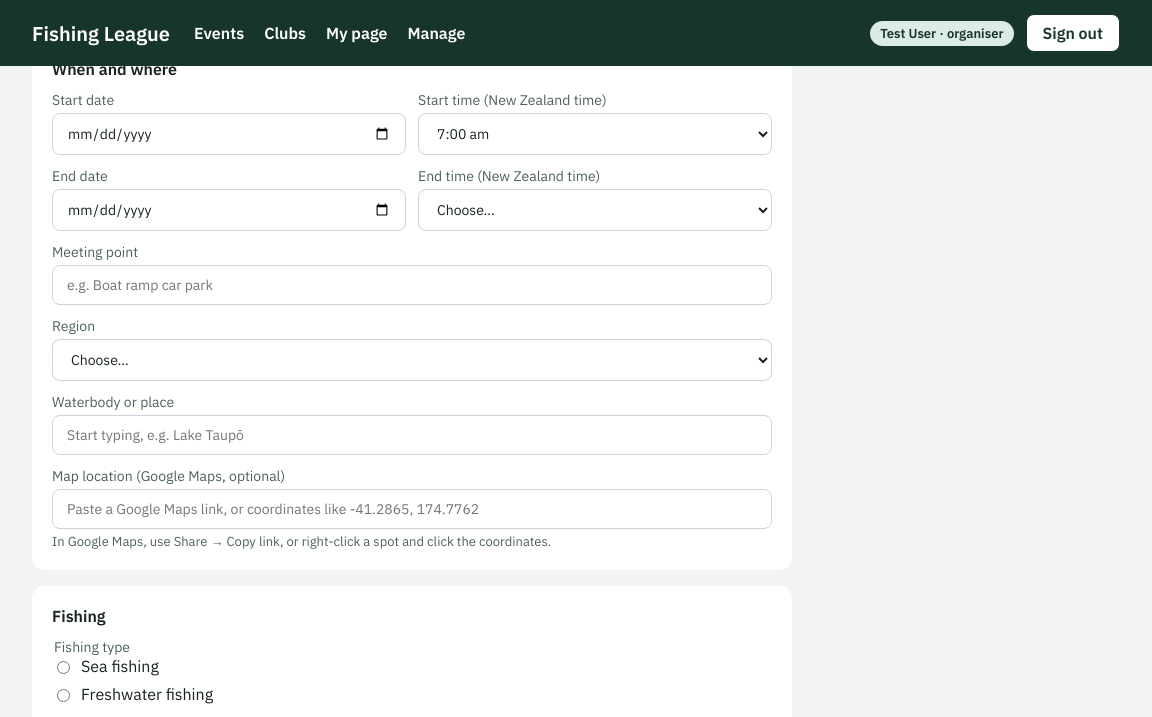
Test: event form › district list follows the region and resets when it changes
(page scrolled)
Expected: the field labelled "District or area" is not shown
Select "Manawatū-Whanganui" in the dropdown labelled "Region": {"x": 412, "y": 360} x1=52 y1=339 x2=772 y2=381
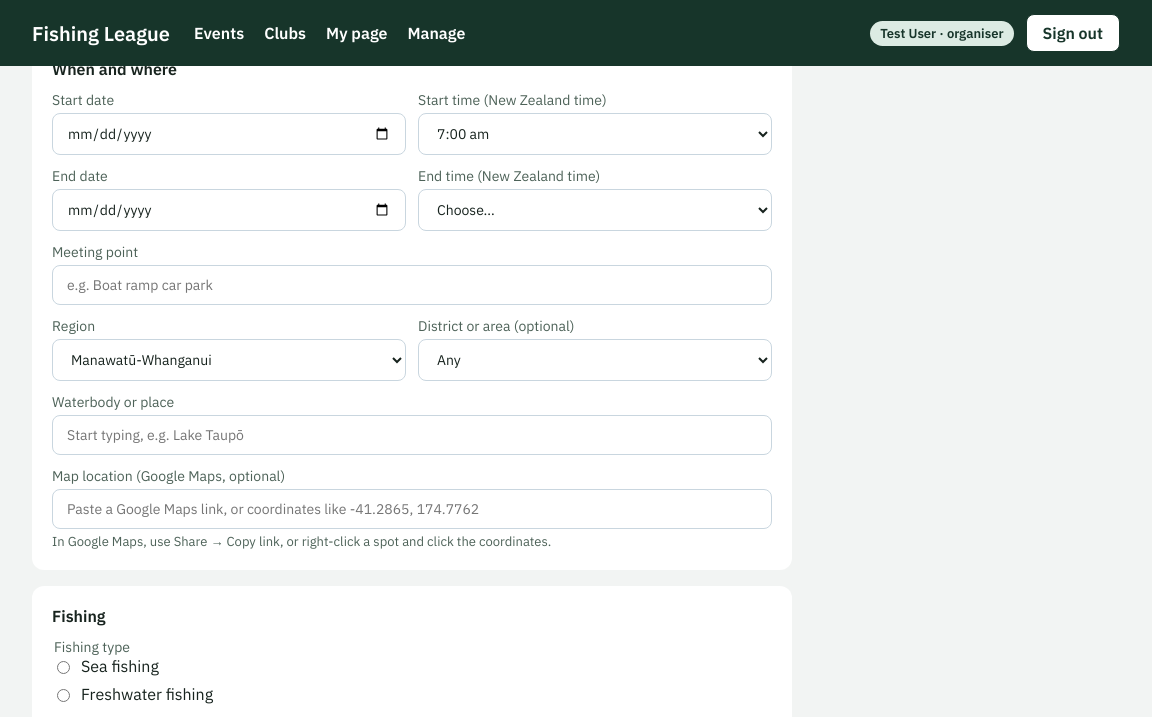
Select "Ruapehu" in the dropdown labelled "District or area (optional)": {"x": 595, "y": 360} x1=418 y1=339 x2=772 y2=381
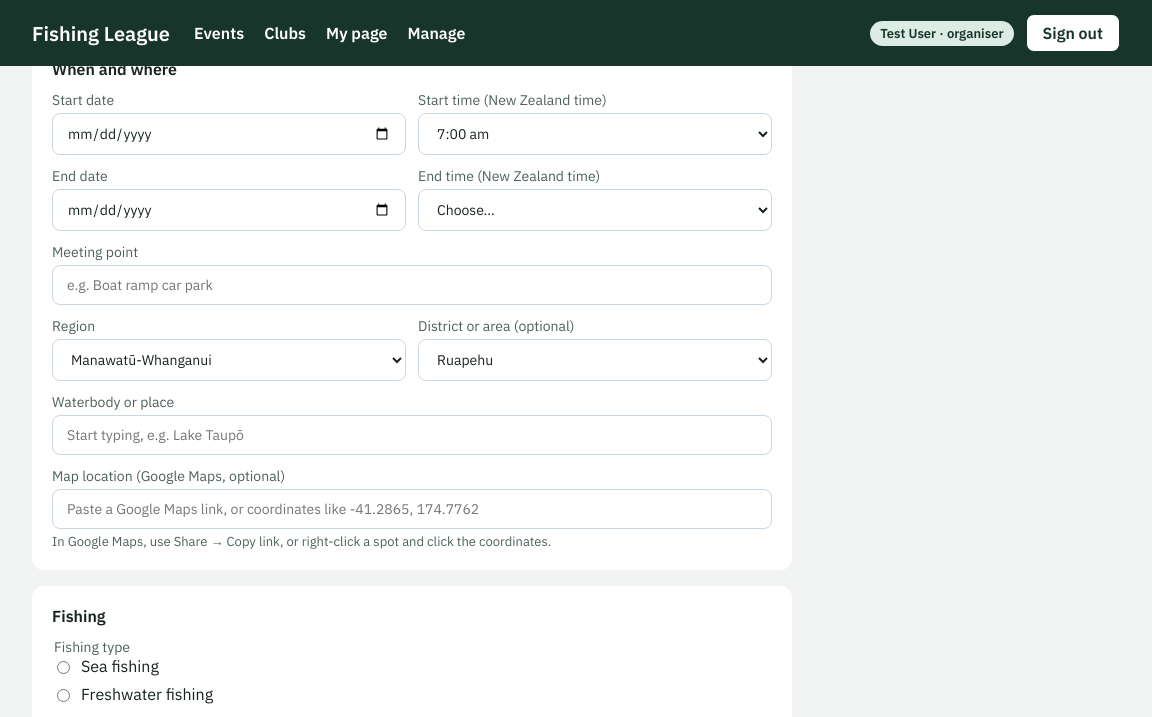
Select "Southland" in the dropdown labelled "Region": {"x": 229, "y": 360} x1=52 y1=339 x2=406 y2=381
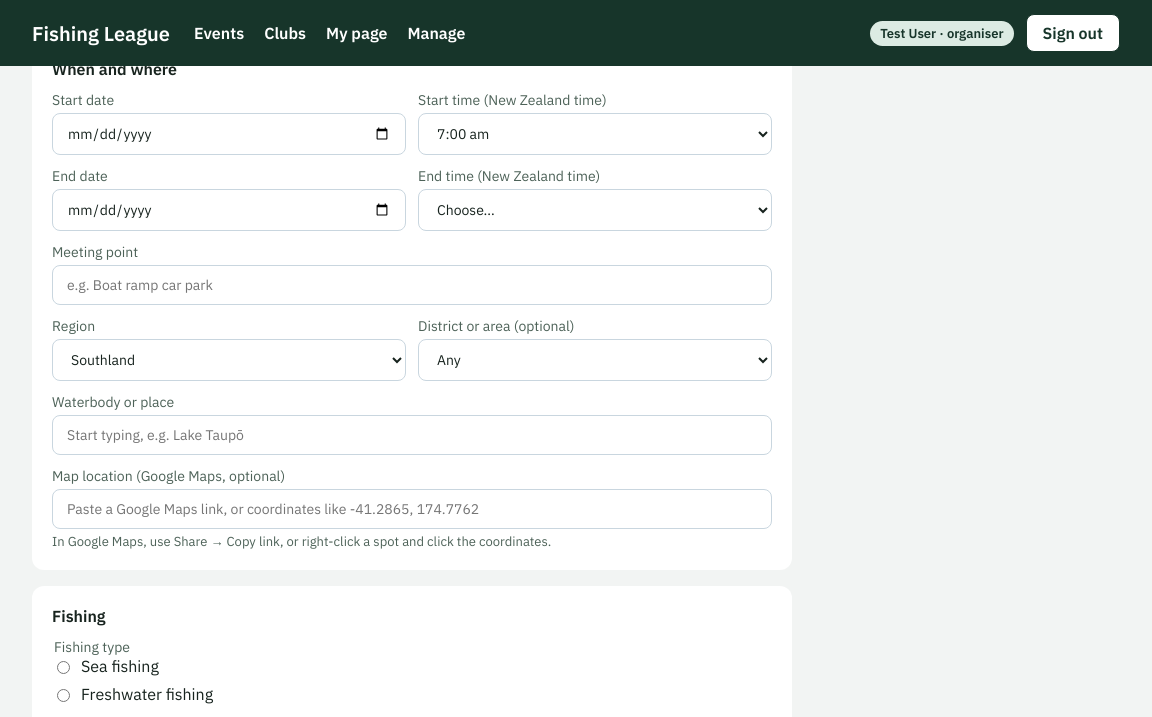
Select "Auckland" in the dropdown labelled "Region": {"x": 229, "y": 360} x1=52 y1=339 x2=406 y2=381
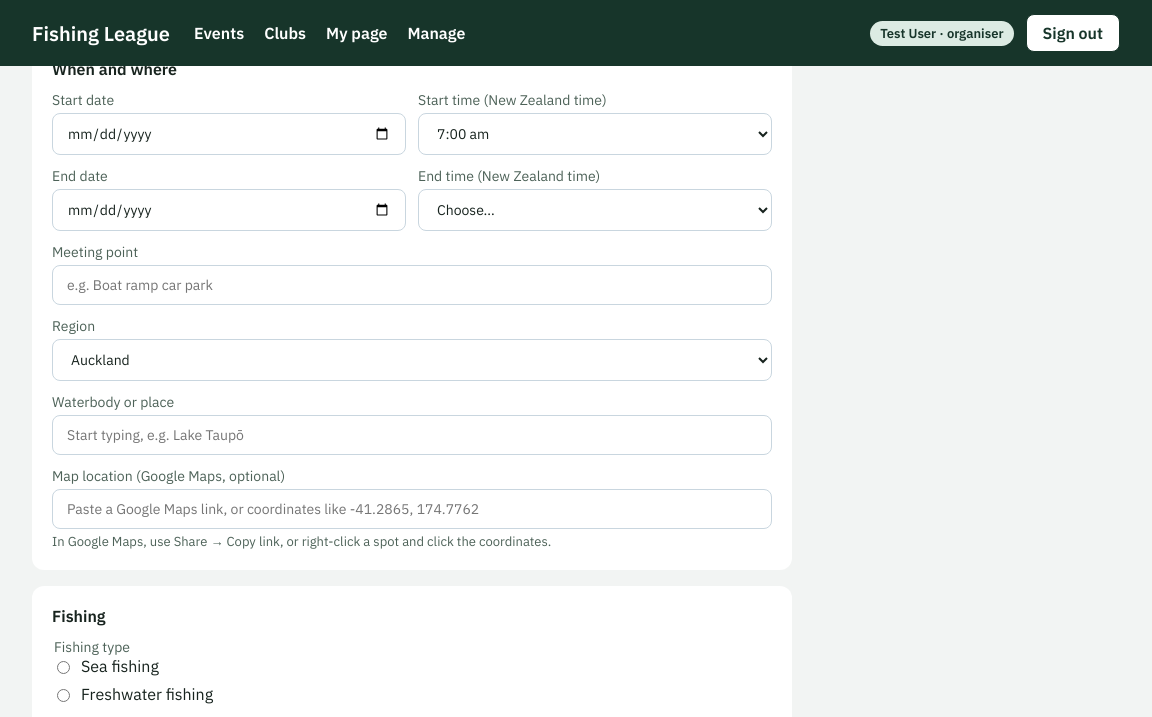
Expected: the label labelled "District or area" is gone
